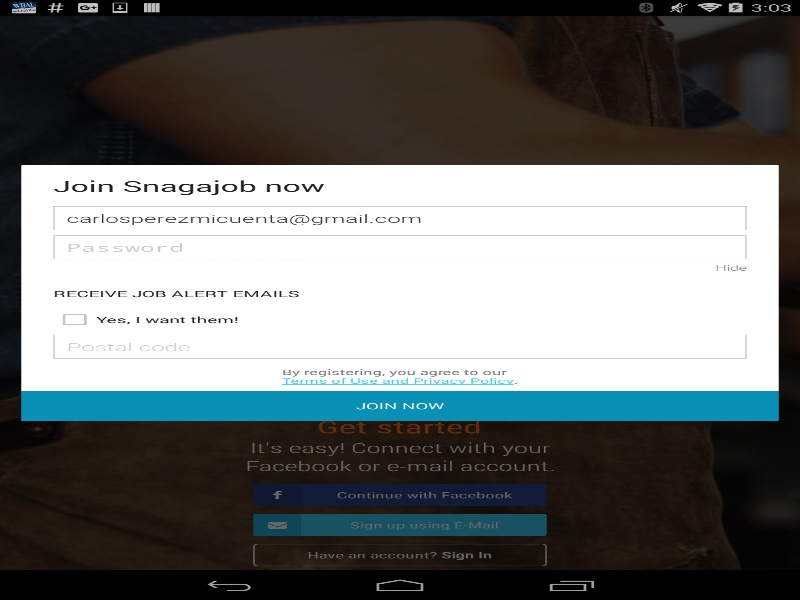Button: (21, 390, 778, 420)
Input: (53, 206, 746, 230), (53, 235, 746, 259), (53, 334, 746, 358)
